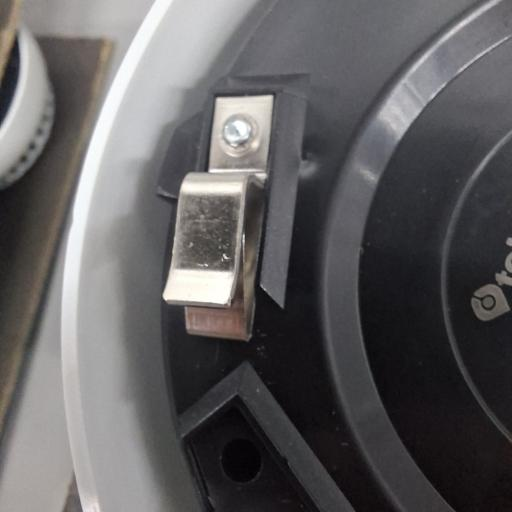yayli: (152, 83, 284, 350)
